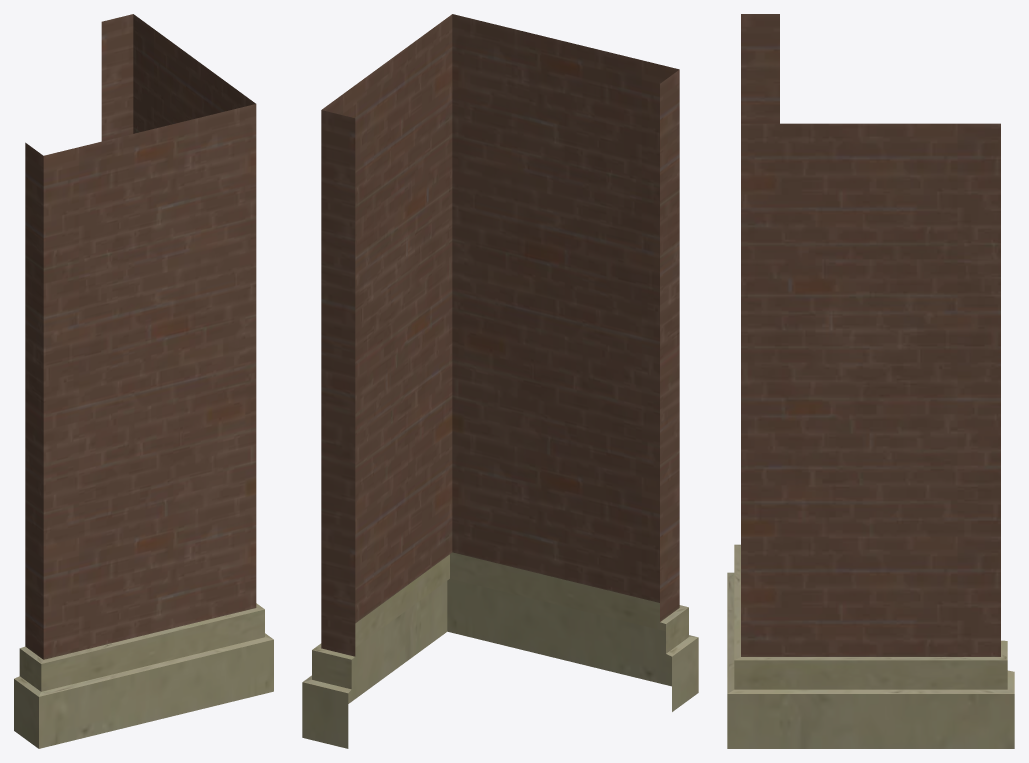
The model's file is Brick_CornerColumn_Bottom.glb.
3 views of the same model, side by side, from view 1: azimuth 30°, elevation 25°; view 2: azimuth 150°, elevation 25°; view 3: azimuth 270°, elevation 25° (orthographic). The views are drawn at different scales.
Visible parts, largest first — view 1: Brick_CornerColumn_Bottom; view 2: Brick_CornerColumn_Bottom; view 3: Brick_CornerColumn_Bottom.
Part boxes in pixels (<box>): Brick_CornerColumn_Bottom: <box>14,14,273,748</box>; Brick_CornerColumn_Bottom: <box>302,14,698,748</box>; Brick_CornerColumn_Bottom: <box>727,14,1014,748</box>.
Size of the model in its own units: 1.26 by 3 by 1.26.
2 materials, 2 textured.
